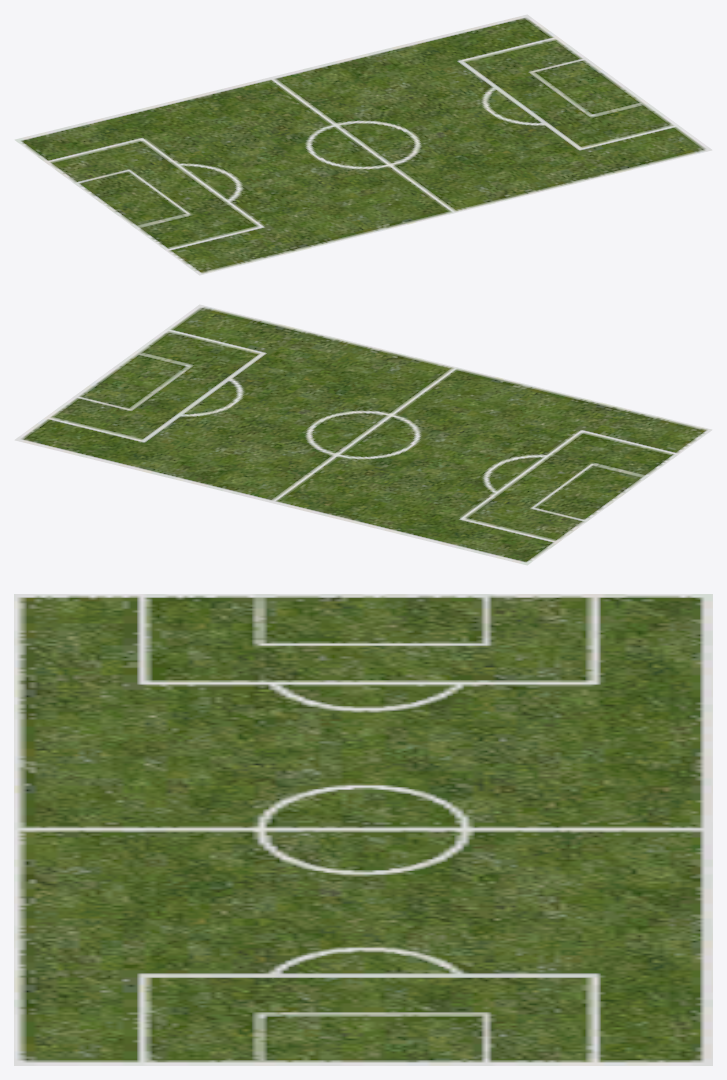
The model's file is Civilian - Civilian Building - Soccer Stadium Field - CBStadField.glb.
The picture shows the model from 3 angles, top to bottom: view 1: azimuth 30°, elevation 25°; view 2: azimuth 150°, elevation 25°; view 3: azimuth 270°, elevation 25°; orthographic projection. The views are drawn at different scales.
Visible parts, largest first — view 1: CBSTADFIELD; view 2: CBSTADFIELD; view 3: CBSTADFIELD.
Part boxes in pixels (box(x1,y1,x2,y2)): CBSTADFIELD: box(14, 14, 712, 275); CBSTADFIELD: box(14, 304, 712, 565); CBSTADFIELD: box(14, 594, 712, 1065).
Bounding box in the file's own units: 173 × 0 × 109.
Materials: 1 (1 with a texture image).
